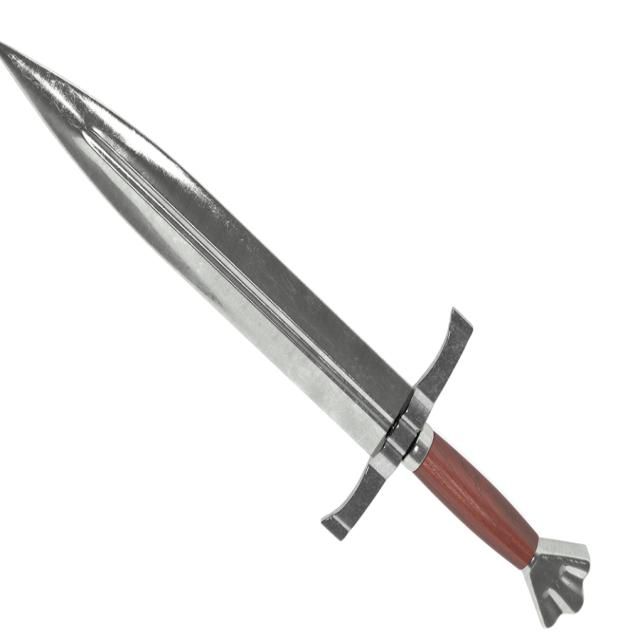Gun: (0, 21, 614, 623)
